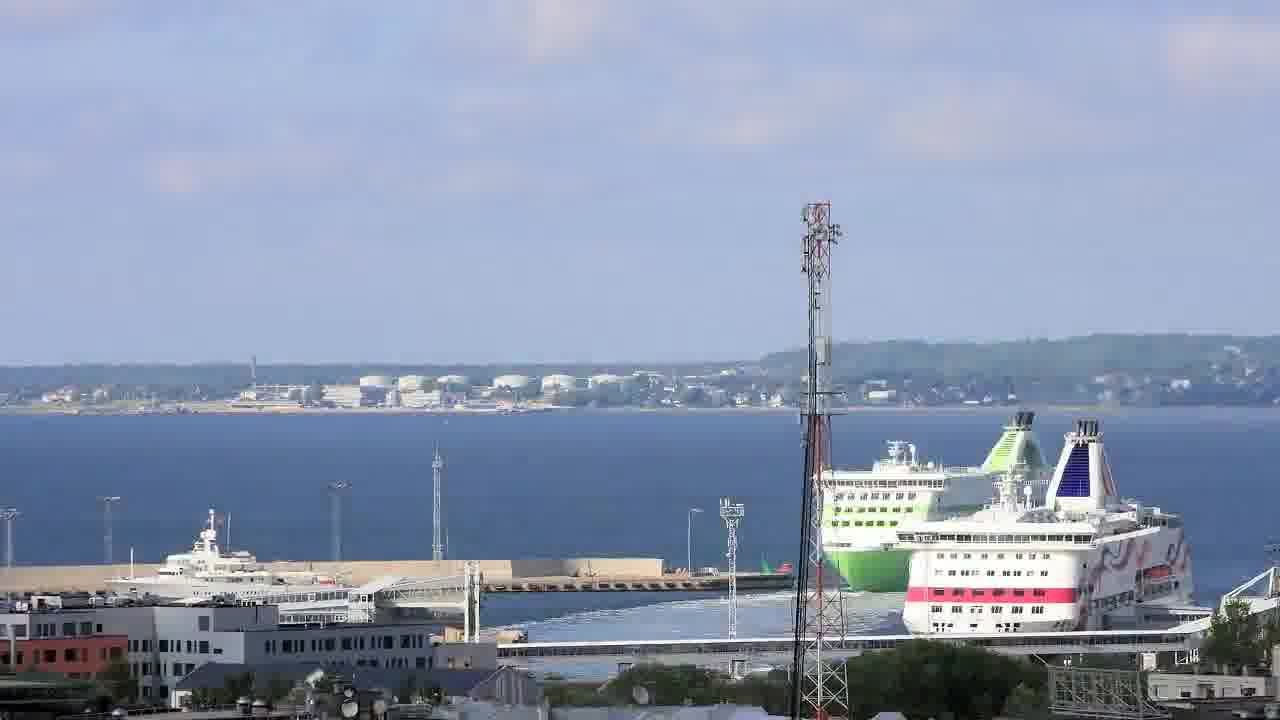type-3: (868, 415, 1225, 638), (794, 417, 1046, 590), (84, 511, 353, 609)
